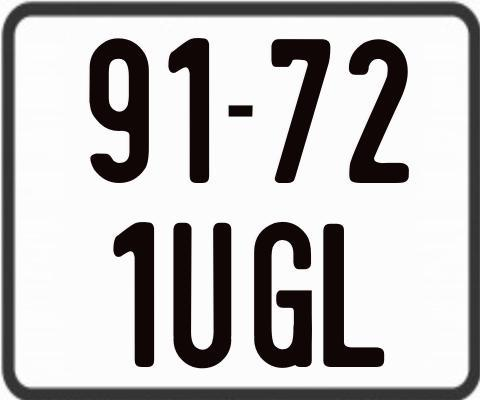1: (168, 37, 215, 182), (110, 220, 151, 370)
2: (347, 37, 413, 186)
7: (269, 37, 333, 185)
9: (86, 38, 152, 185)
G: (253, 220, 312, 370)
L: (322, 222, 389, 371)
U: (172, 223, 230, 373)
